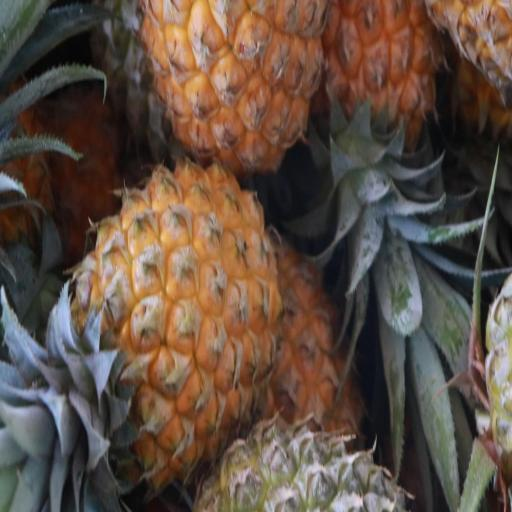Pineapple - v8 v1: (72, 167, 273, 482), (139, 0, 317, 177), (319, 0, 444, 199)
